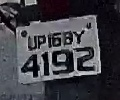1: (39, 52, 52, 78), (45, 32, 53, 49)
2: (72, 44, 100, 74)
4: (20, 54, 41, 80)
6: (51, 32, 63, 49)
9: (50, 49, 76, 75)
B: (62, 30, 74, 46)
P: (37, 37, 47, 51)
U: (26, 35, 38, 51)
Y: (73, 29, 85, 45)
